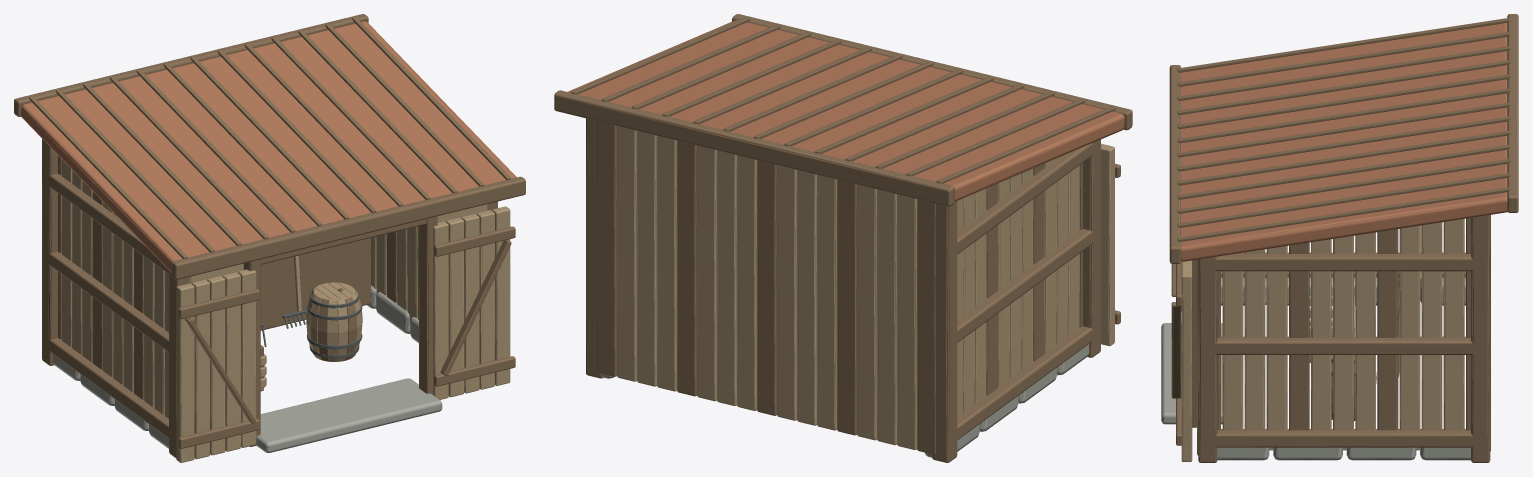
Rendered from SM_Shed.fbx.
3 views of the same model, side by side, from view 1: azimuth 30°, elevation 25°; view 2: azimuth 150°, elevation 25°; view 3: azimuth 270°, elevation 25° (orthographic). The views are drawn at different scales.
Visible parts, largest first — view 1: SM_Shed; view 2: SM_Shed; view 3: SM_Shed.
Boxes of the visible parts, x1,y1,x2,y2 form: SM_Shed: (14, 14, 525, 462); SM_Shed: (554, 14, 1132, 462); SM_Shed: (1161, 14, 1518, 462).
Bounding box in the file's own units: 456 × 375 × 320.
